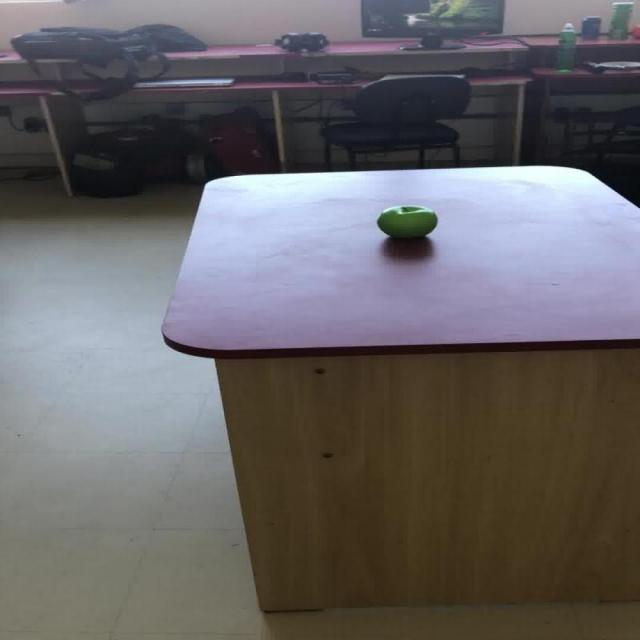Apple: (376, 204, 437, 237)
